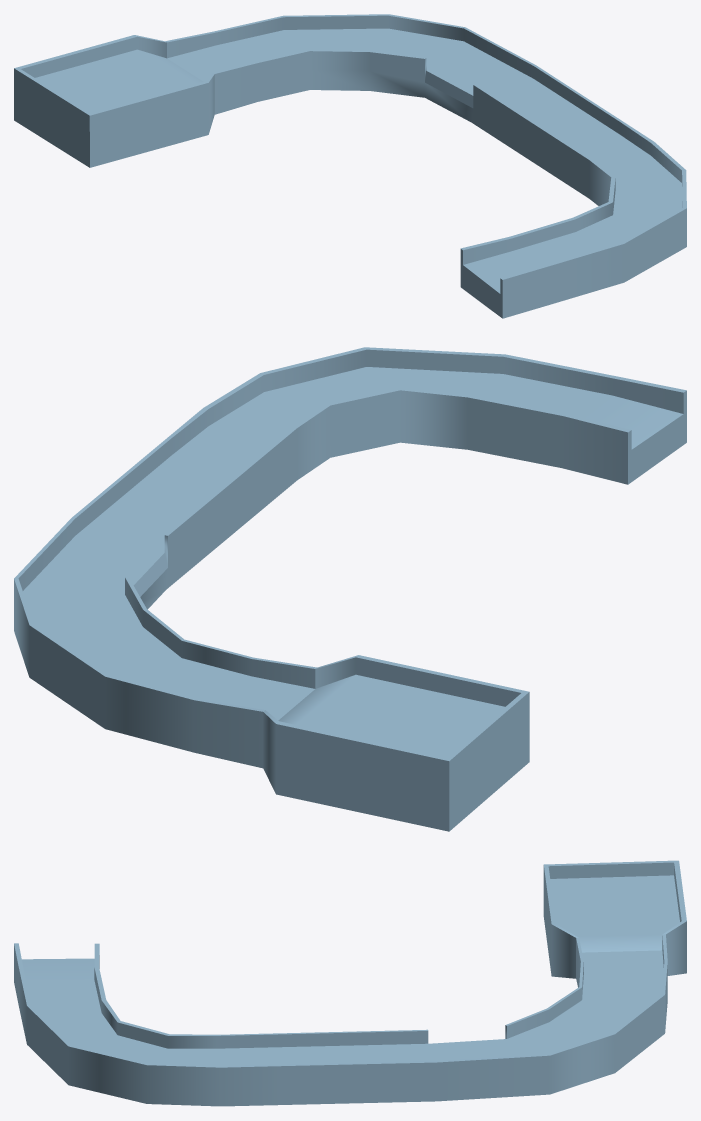
The model's file is rampla.fbx.
3 views of the same model, one above another, from view 1: azimuth 30°, elevation 25°; view 2: azimuth 150°, elevation 25°; view 3: azimuth 270°, elevation 25° (orthographic). The views are drawn at different scales.
Parts seen in each view (by area): view 1: rampla; view 2: rampla; view 3: rampla.
Boxes of the visible parts, x1=… form: rampla: x1=14, y1=14, x2=686, y2=318; rampla: x1=14, y1=347, x2=686, y2=831; rampla: x1=14, y1=860, x2=686, y2=1106.
Bounding box in the file's own units: 1671 × 203 × 2366.
